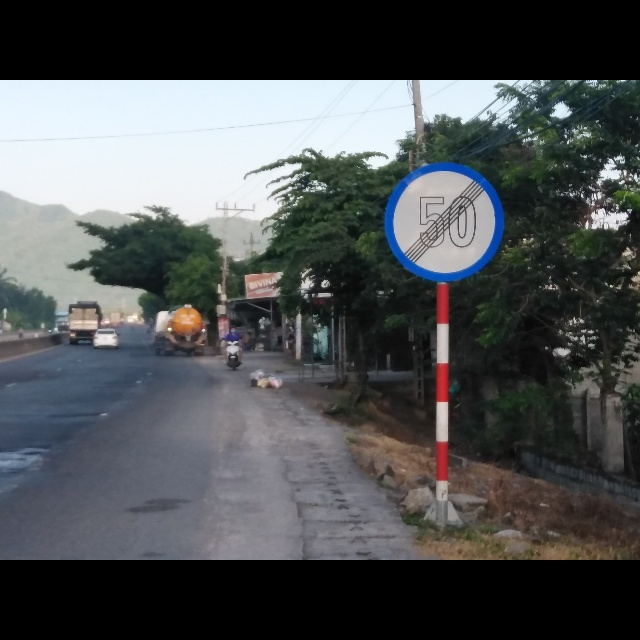Hết hạn chế tốc độ tối đa 50km/h: (380, 160, 505, 284)
